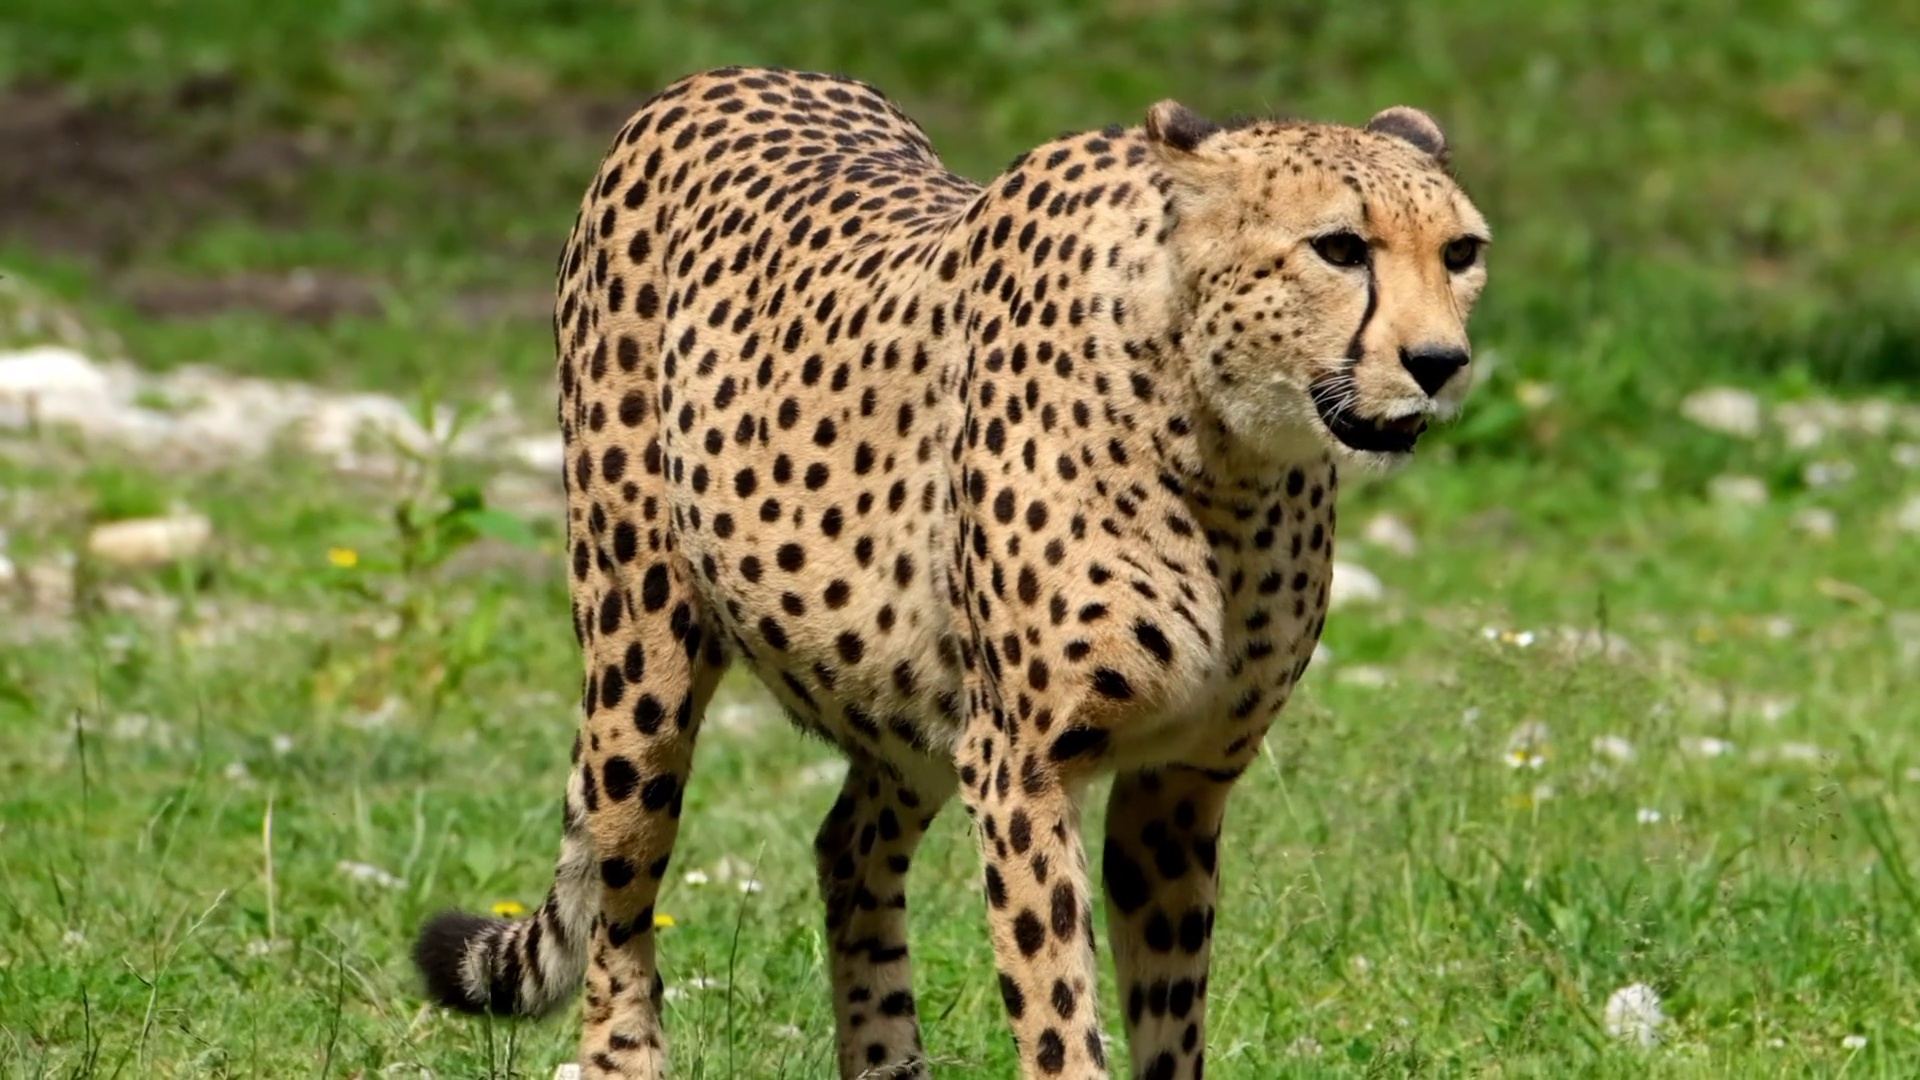Cheetah: (410, 61, 1503, 1080)
